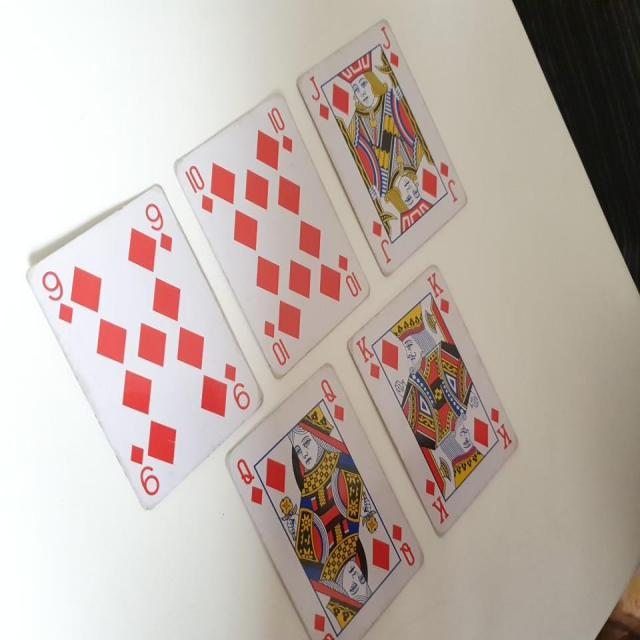10 Diamonds: (171, 90, 374, 380)
9 Diamonds: (25, 183, 264, 512)
J Diamonds: (295, 20, 468, 280)
K Diamonds: (344, 261, 521, 535)
Q Diamonds: (224, 362, 425, 639)
